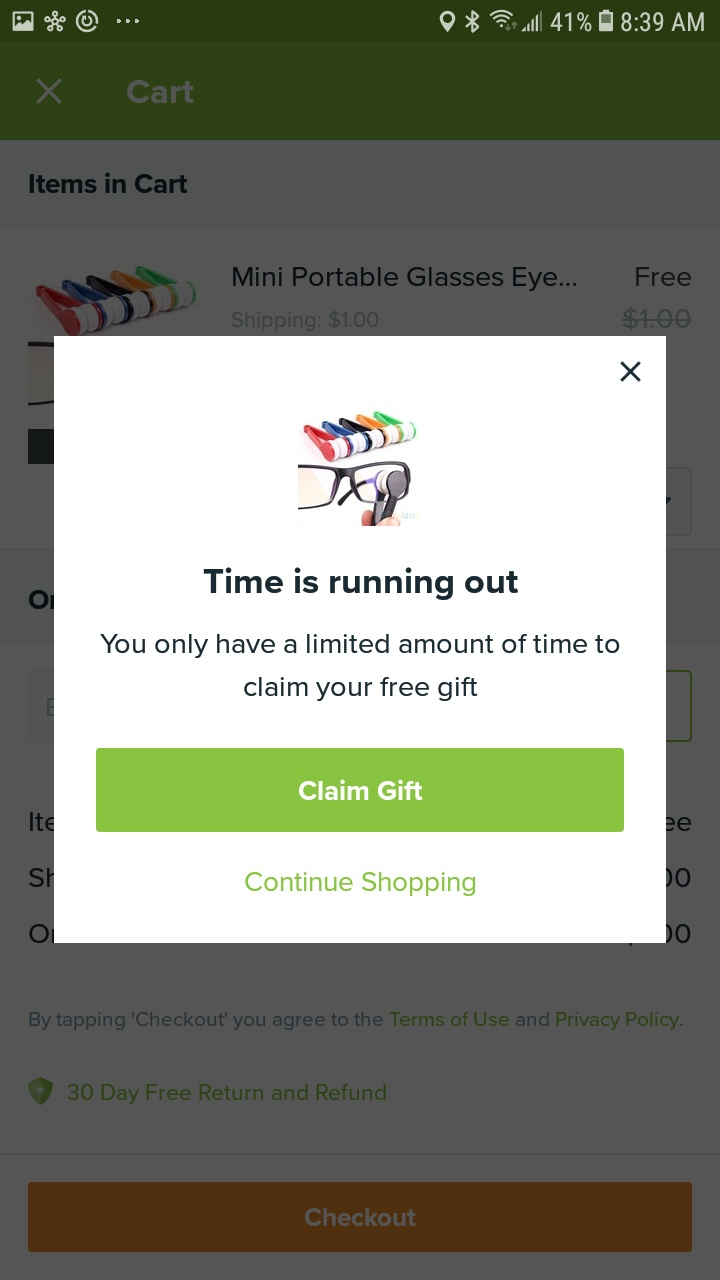Icon: (620, 361, 642, 383)
Image: (298, 409, 418, 527)
Modal: (54, 337, 666, 944)
Text: (100, 634, 620, 702), (204, 567, 519, 601), (245, 871, 476, 897)
TextButton: (96, 748, 624, 833)
UpperTaskBar: (1, 1, 720, 43)
